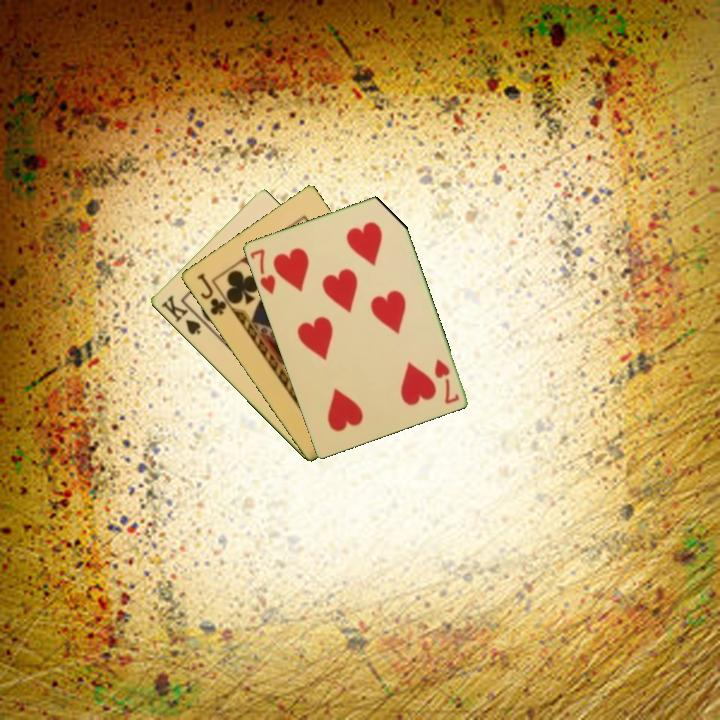7h: (246, 245, 278, 297), (430, 355, 462, 407)
Jc: (193, 269, 229, 318)
Ks: (157, 291, 209, 338)
